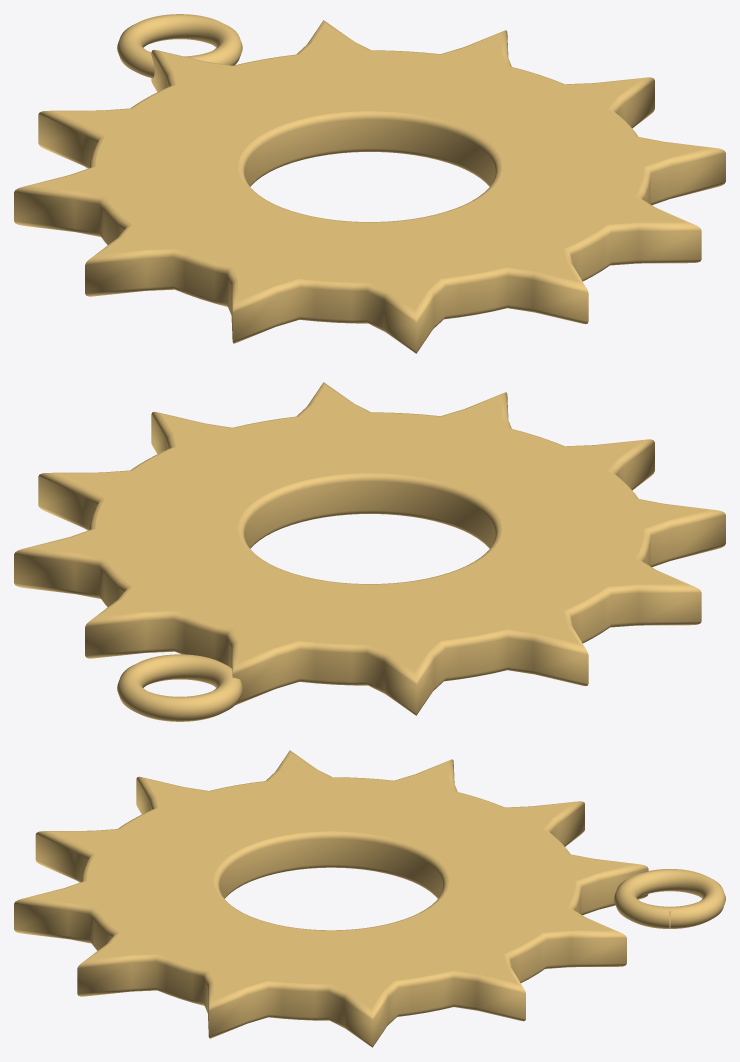
File: pendant-09-gold.glb
The picture shows the model from 3 angles, top to bottom: view 1: azimuth 30°, elevation 25°; view 2: azimuth 150°, elevation 25°; view 3: azimuth 270°, elevation 25°; orthographic projection. The views are drawn at different scales.
Visible parts, largest first — view 1: Cast relief.008, Wire detail.006; view 2: Cast relief.008, Wire detail.006; view 3: Cast relief.008, Wire detail.006.
Boxes of the visible parts, x1,y1,x2,y2 form: Cast relief.008: (14, 20, 725, 353); Wire detail.006: (117, 14, 242, 78); Cast relief.008: (14, 382, 725, 715); Wire detail.006: (117, 654, 242, 721); Cast relief.008: (14, 750, 648, 1047); Wire detail.006: (614, 869, 725, 928).
Size of the model in its own units: 0.0135 by 0.00084 by 0.0151.
